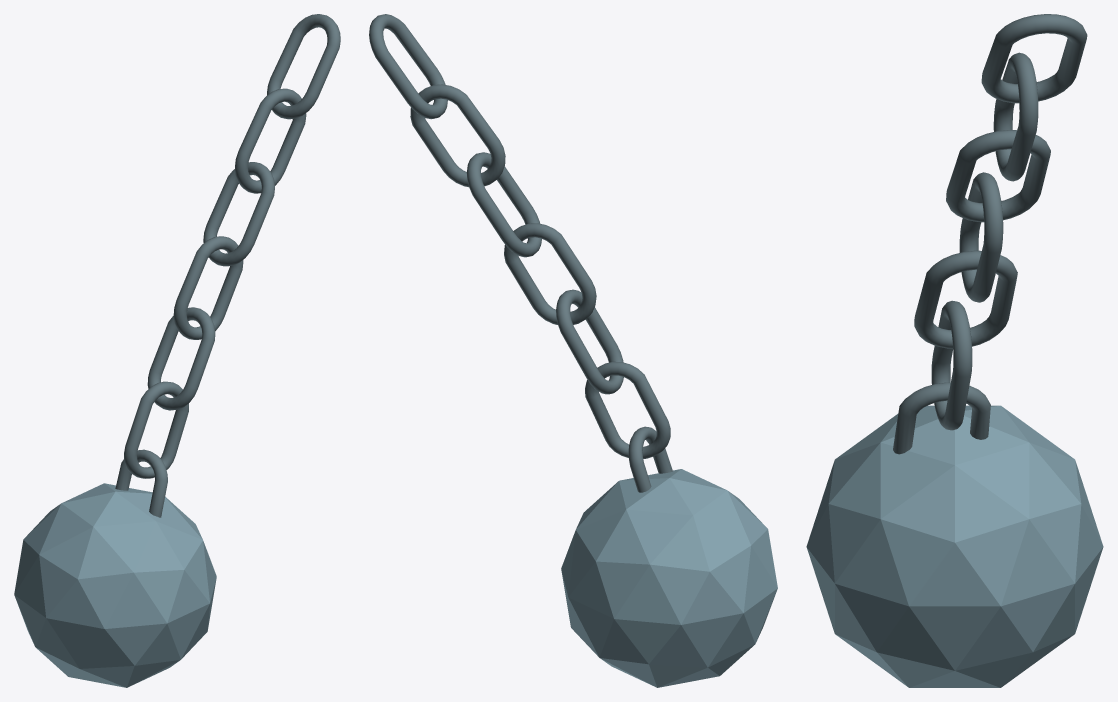
The model's file is ch2_weapon.fbx.
3 views of the same model, side by side, from view 1: azimuth 30°, elevation 25°; view 2: azimuth 150°, elevation 25°; view 3: azimuth 270°, elevation 25° (orthographic). The views are drawn at different scales.
Visible parts, largest first — view 1: Icosphere; view 2: Icosphere; view 3: Icosphere.
Part boxes in pixels (box(x1,y1,x2,y2)): Icosphere: box(14, 14, 340, 687); Icosphere: box(369, 14, 777, 687); Icosphere: box(806, 14, 1103, 687).
Size of the model in its own units: 65.7 by 110 by 35.48.
